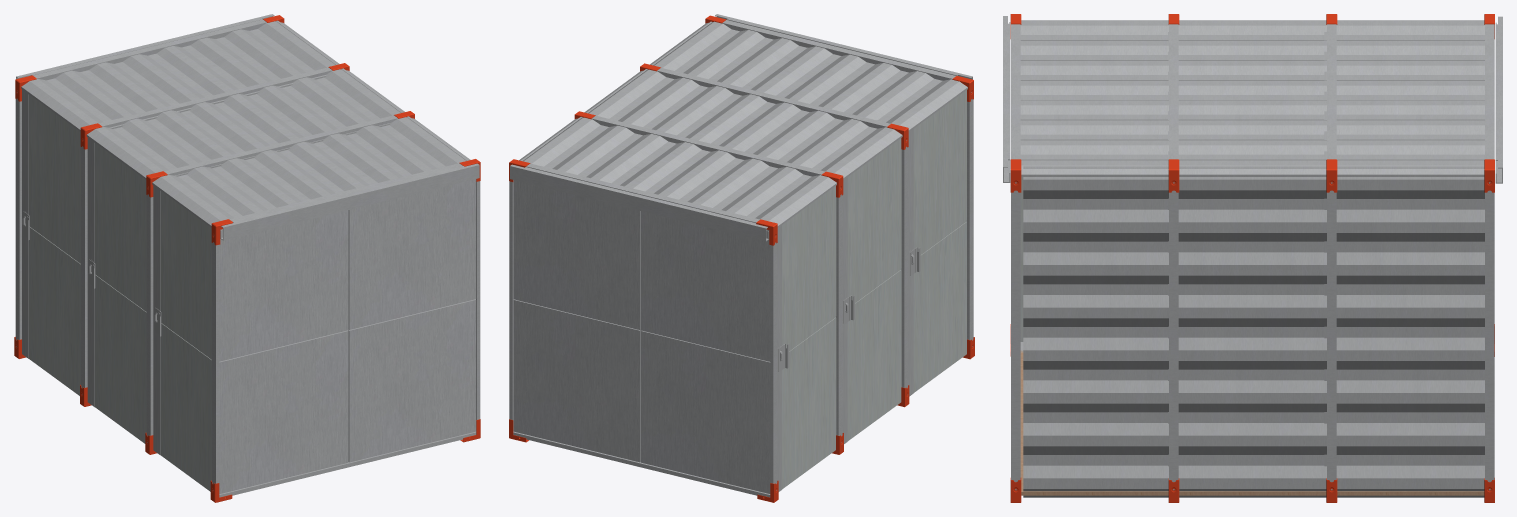
Rendered from 6S3_closed.glb.
The picture shows the model from 3 angles, left to right: view 1: azimuth 30°, elevation 25°; view 2: azimuth 150°, elevation 25°; view 3: azimuth 270°, elevation 25°; orthographic projection. The views are drawn at different scales.
Visible parts, largest first — view 1: Cube.001, Doors, celing, frontRim, gutter, corners, gutter.001, back; view 2: Cube, Doors, celing, frontRim, gutter.001, corners, gutter, back; view 3: back, celing, frontRim, corners, floor.002, gutter.001, gutter, Doors, Wall.
Boxes of the visible parts, x1,y1,x2,y2 form: Cube.001: (219, 179, 476, 494); Doors: (22, 89, 211, 491); celing: (21, 21, 470, 227); frontRim: (15, 19, 480, 497); gutter: (220, 163, 479, 240); corners: (14, 15, 480, 502); gutter.001: (16, 14, 274, 79); back: (276, 20, 468, 160); Cube: (513, 180, 770, 493); Doors: (777, 90, 966, 491); celing: (519, 21, 967, 227); frontRim: (509, 20, 973, 497); gutter.001: (510, 164, 768, 241); corners: (509, 15, 974, 502); gutter: (715, 14, 972, 79); back: (521, 21, 712, 161); back: (1023, 165, 1484, 497); celing: (1020, 20, 1484, 176); frontRim: (1011, 24, 1494, 490); corners: (1010, 14, 1494, 502); floor.002: (1020, 350, 1484, 495); gutter.001: (1495, 16, 1502, 183); gutter: (1003, 16, 1010, 182); Doors: (1020, 177, 1023, 341); Wall: (1168, 32, 1326, 466).
Bounding box in the file's own units: 23.22 × 23.06 × 31.28.
Materials: 10 (9 with a texture image).
